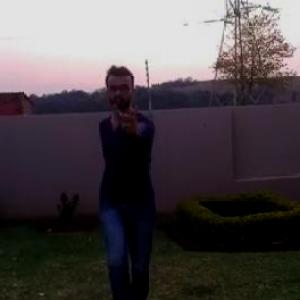takeoff-hand: (110, 92, 147, 142)
